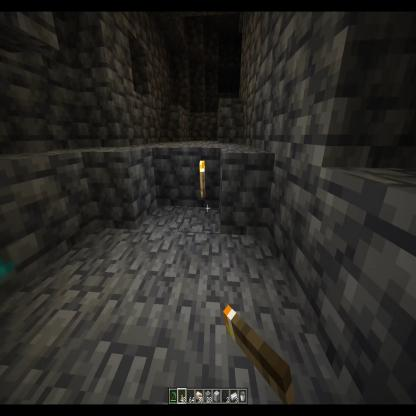diamond ore: (0, 232, 20, 297)
